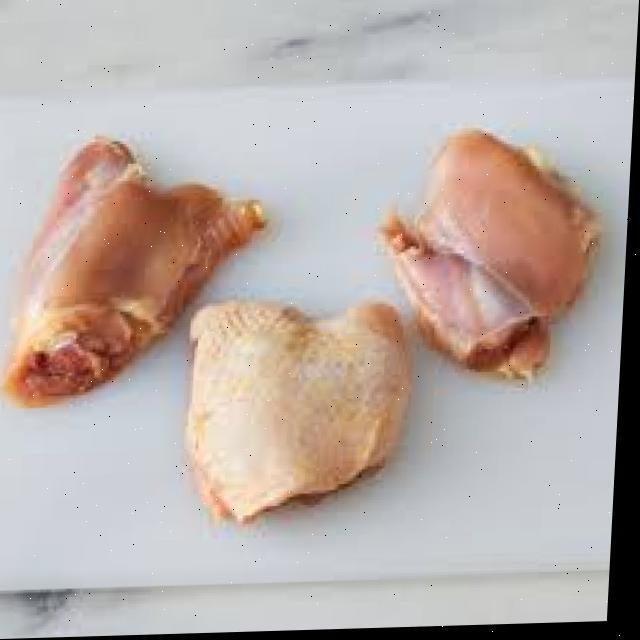thigh: (0, 120, 270, 420), (352, 105, 610, 395), (173, 290, 422, 548)
